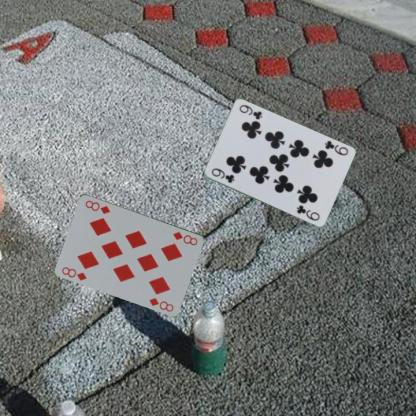8d: (170, 229, 199, 247), (59, 264, 88, 282)
9c: (322, 138, 349, 157), (209, 166, 235, 184)
